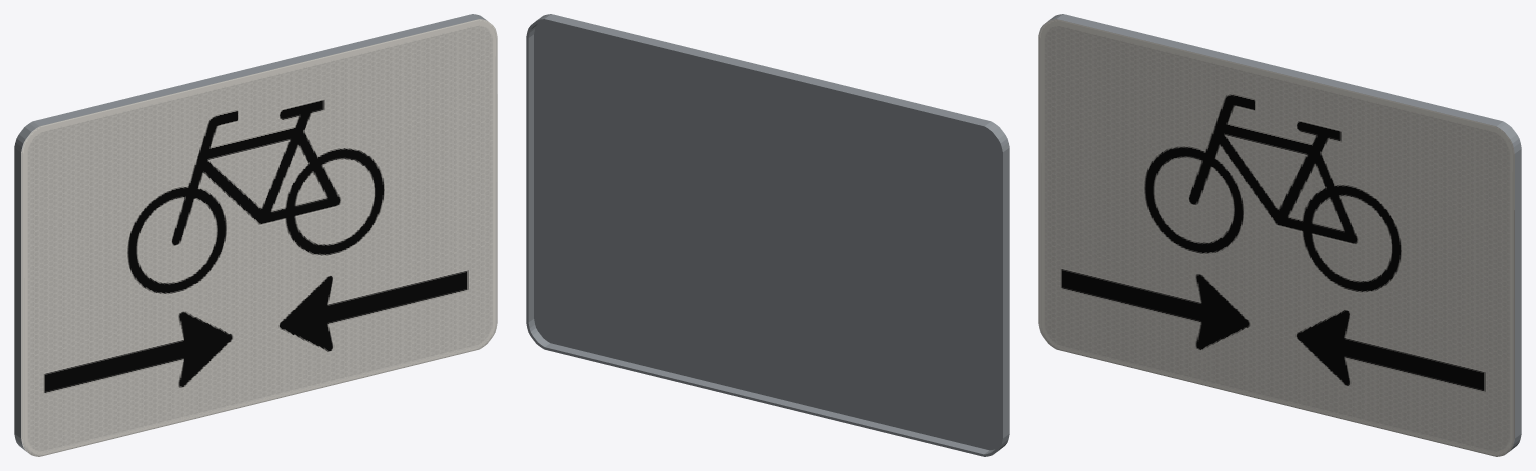
3 views of the same model, side by side, from view 1: azimuth 30°, elevation 25°; view 2: azimuth 150°, elevation 25°; view 3: azimuth 330°, elevation 25° (orthographic).
Visible parts, largest first — view 1: cat_2a64e97af32a781d; view 2: cat_2a64e97af32a781d; view 3: cat_2a64e97af32a781d.
Part boxes in pixels (x1,y1,x2,y2): cat_2a64e97af32a781d: [14, 14, 497, 456]; cat_2a64e97af32a781d: [526, 14, 1009, 456]; cat_2a64e97af32a781d: [1038, 14, 1521, 456].
Size of the model in its own units: 0.6 by 0.015 by 0.3976.
Materials: 2 (1 with a texture image).
